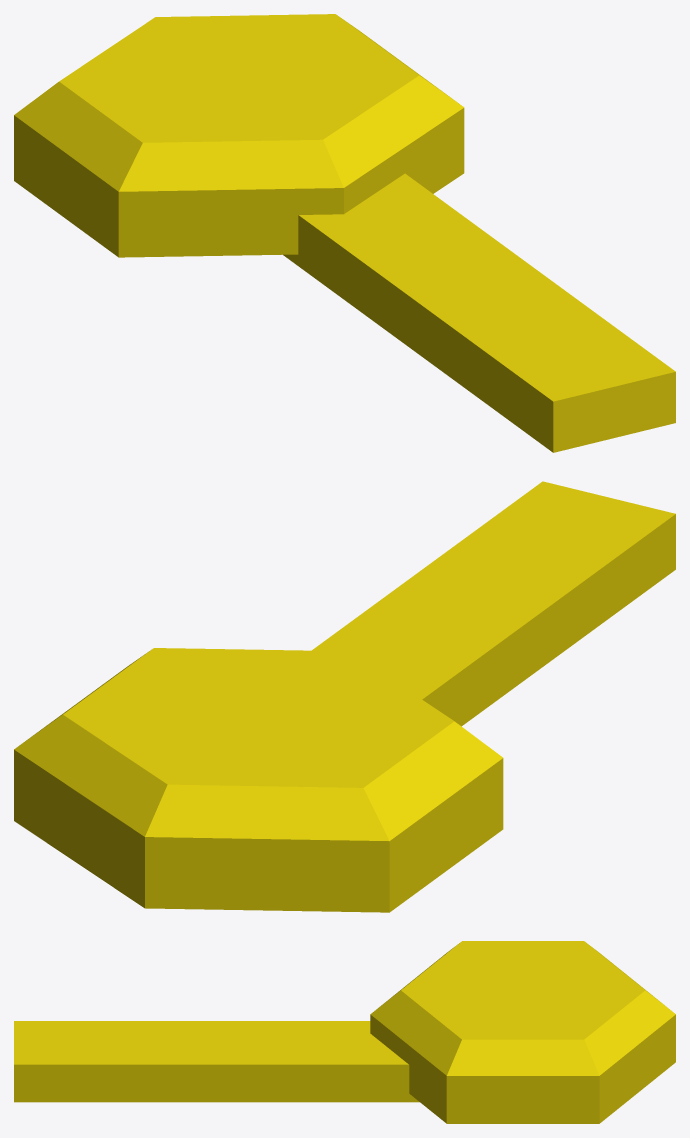
File: key.fbx
3 views of the same model, one above another, from view 1: azimuth 30°, elevation 25°; view 2: azimuth 150°, elevation 25°; view 3: azimuth 270°, elevation 25° (orthographic). The views are drawn at different scales.
Parts seen in each view (by area): view 1: mergedBlocks; view 2: mergedBlocks; view 3: mergedBlocks.
Boxes of the visible parts, x1,y1,x2,y2 form: mergedBlocks: (14, 14, 675, 452); mergedBlocks: (14, 481, 675, 912); mergedBlocks: (14, 941, 675, 1123).
Bounding box in the file's own units: 1.1 × 0.336 × 2.5.
